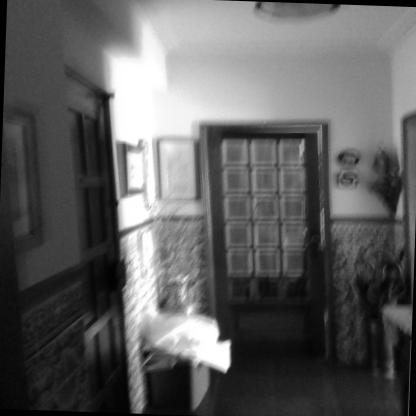closed: (184, 113, 340, 368)
